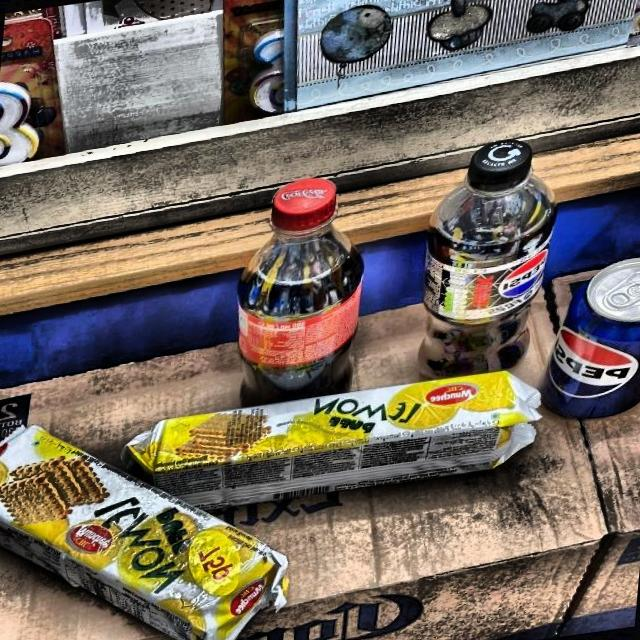coke-bottle: (232, 182, 368, 408)
lemon puff: (2, 420, 280, 640), (134, 372, 544, 512)
pepsi-bottle: (419, 130, 549, 382)
pepsi-can: (559, 268, 640, 416)
